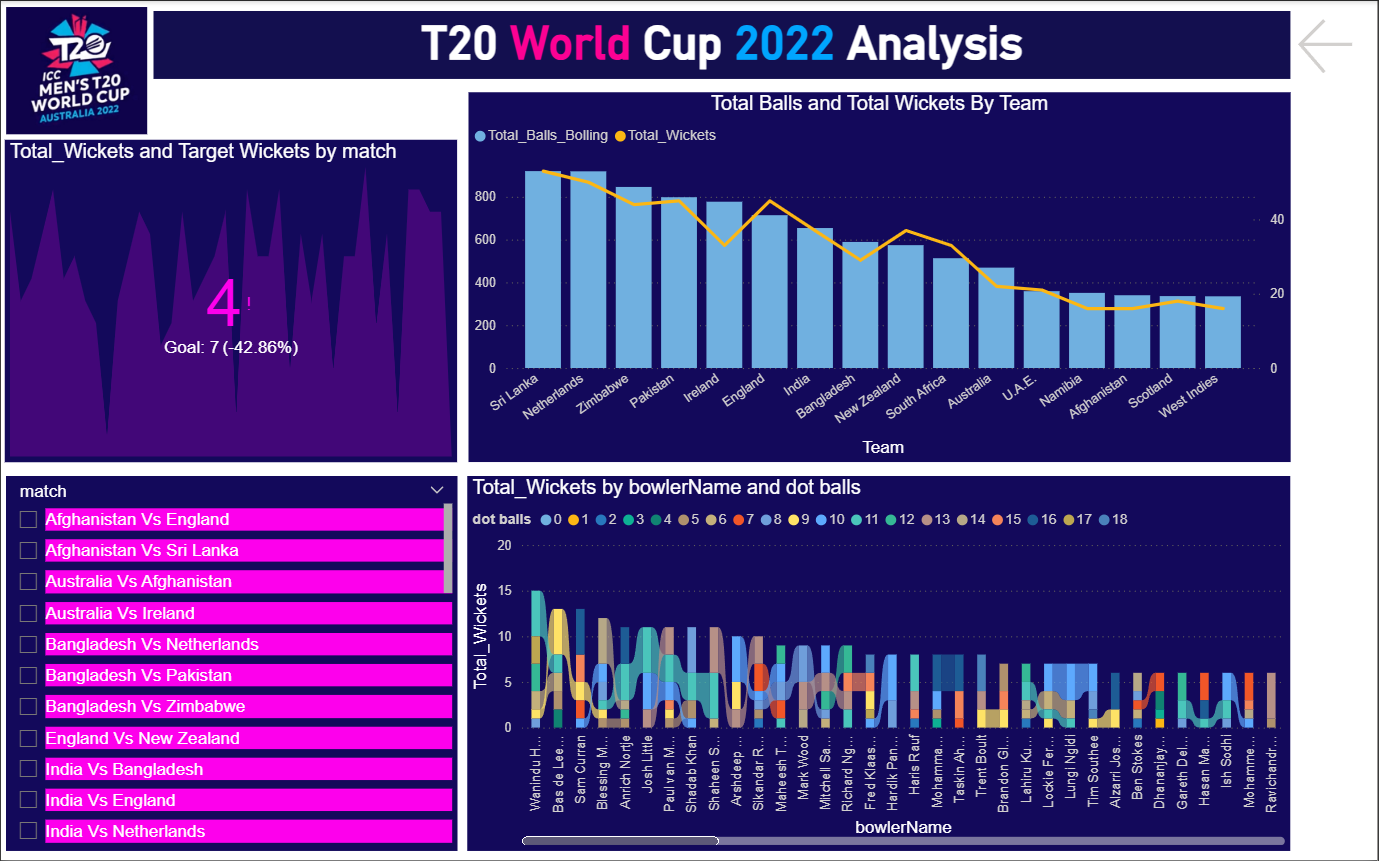

The dashboard page shown, as its layout file describes it:
{"tool":"powerbi","page":{"name":"Bowling Performance","canvas":[1280,800],"ordinal":3},"visuals":[{"type":"textbox","box":[141.3,9.6,1058,63.1],"z":0},{"type":"image","box":[0,0,140.7,129.1],"z":1000},{"type":"lineClusteredColumnComboChart","title":"Total Balls and Total Wickets By Team","fields":{"Category":["bowling_summary.Team"],"Y":["Measures Table.Total_Balls_Bolling"],"Y2":["Measures Table.Total_Wickets"]},"box":[434.8,84.4,765,344],"z":2000},{"type":"ribbonChart","fields":{"Y":["Measures Table.Total_Wickets"],"Category":["bowling_summary.bowlerName"],"Series":["bowling_summary.dot balls"]},"box":[434.3,441.4,765.7,348.6],"z":3000},{"type":"kpi","fields":{"Indicator":["Measures Table.Total_Wickets"],"TrendLine":["bowling_summary.match"],"Goal":["Measures Table.Target Wickets"]},"box":[3.8,128.5,420.9,299.9],"z":4000},{"type":"slicer","fields":{"Values":["bowling_summary.match"]},"box":[4.3,441.4,420,348.6],"z":5000},{"type":"actionButton","box":[1201.4,10.2,78.6,63.2],"z":6000}]}

Visuals, with their boxes in screenshot pixels (x1, y1, x2, y2), scaled from the page's 1280x800 canvas onto the 1379x861 screenshot:
textbox: box(152, 10, 1292, 78)
image: box(0, 0, 152, 139)
"Total Balls and Total Wickets By Team" lineClusteredColumnComboChart: box(468, 91, 1293, 461)
ribbonChart - Measures Table.Total_Wickets x bowling_summary.bowlerName: box(468, 475, 1293, 850)
kpi - Measures Table.Total_Wickets x bowling_summary.match: box(4, 138, 458, 461)
slicer - bowling_summary.match: box(5, 475, 457, 850)
actionButton: box(1294, 11, 1378, 79)
